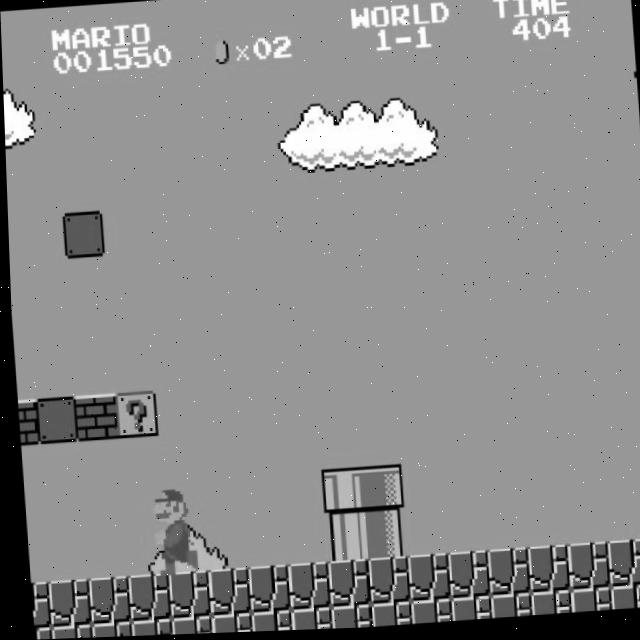0- big_mario: (145, 481, 194, 577)
1- brick_block: (71, 394, 115, 442), (14, 398, 34, 445)
13- mystery_block: (111, 391, 155, 439)
14- pipe: (319, 515, 364, 563), (359, 512, 404, 560)
15- pipe_head: (316, 469, 361, 518), (356, 467, 401, 515)
17- undestructible_block: (82, 576, 127, 625), (202, 568, 247, 617), (122, 574, 167, 622), (162, 571, 207, 619), (242, 566, 287, 614), (282, 564, 327, 612), (43, 578, 87, 627), (562, 545, 606, 594), (322, 561, 366, 609), (362, 558, 406, 606), (402, 556, 446, 604), (442, 553, 486, 601), (482, 551, 526, 599), (522, 548, 566, 596), (602, 543, 640, 591), (445, 598, 488, 624), (325, 606, 368, 631), (365, 604, 408, 629), (405, 601, 448, 626), (485, 596, 527, 621), (525, 594, 567, 619), (565, 591, 607, 616), (285, 609, 328, 632), (26, 580, 46, 628), (205, 613, 248, 635), (245, 611, 288, 633), (605, 588, 640, 613), (165, 617, 208, 636), (125, 619, 168, 637), (85, 622, 128, 638), (45, 624, 88, 639), (28, 626, 47, 640)
3- empty_block: (59, 211, 104, 258), (31, 396, 75, 444)
